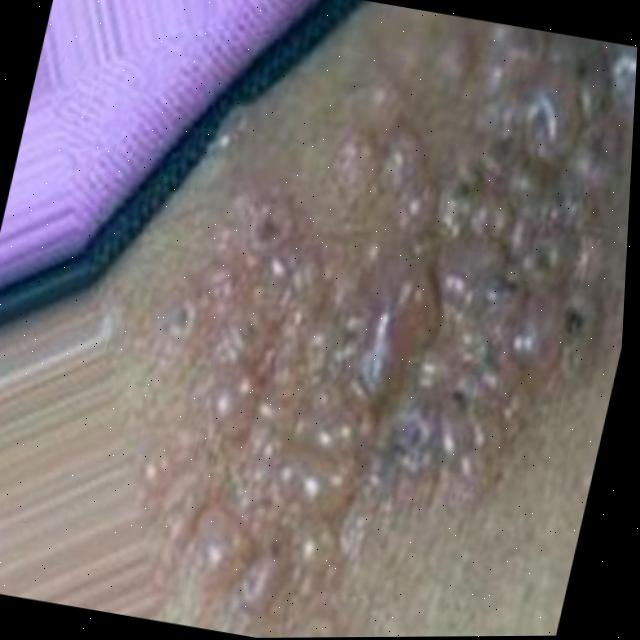Shingles: (110, 0, 640, 639)
